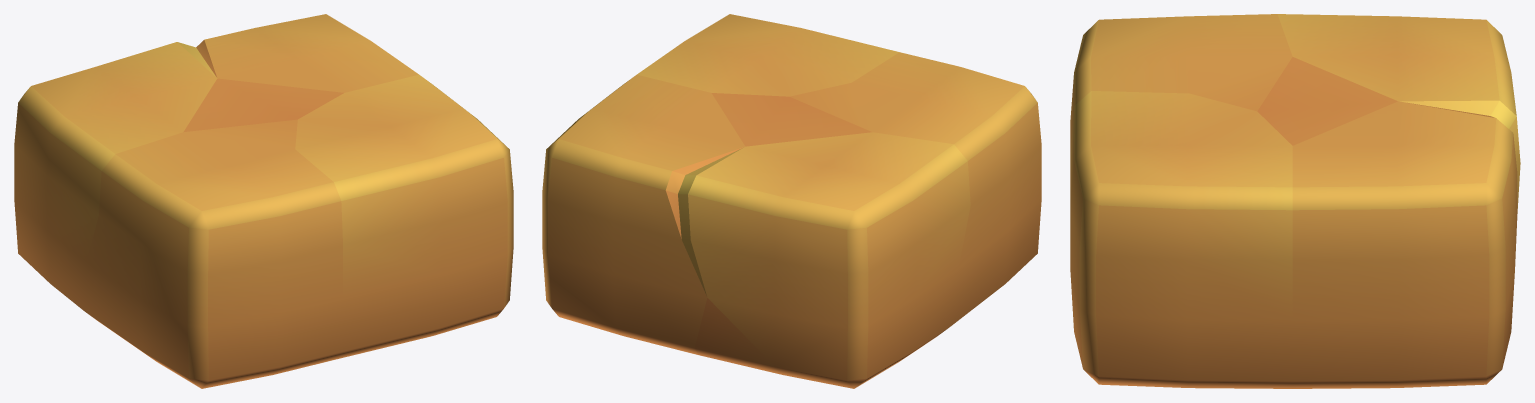
The model's file is cube_06_alt.fbx.
3 views of the same model, side by side, from view 1: azimuth 30°, elevation 25°; view 2: azimuth 150°, elevation 25°; view 3: azimuth 270°, elevation 25° (orthographic). The views are drawn at different scales.
Visible parts, largest first — view 1: cube_06_alt; view 2: cube_06_alt; view 3: cube_06_alt.
Boxes of the visible parts, left/top/right/bottom form: cube_06_alt: left=14, top=14, right=513, bottom=388; cube_06_alt: left=542, top=14, right=1041, bottom=388; cube_06_alt: left=1070, top=14, right=1520, bottom=388.
Bounding box in the file's own units: 219 × 110 × 219.
